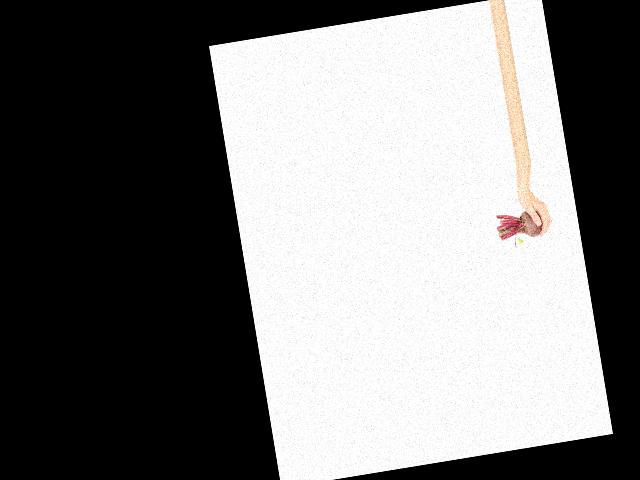beet: (495, 208, 546, 250)
